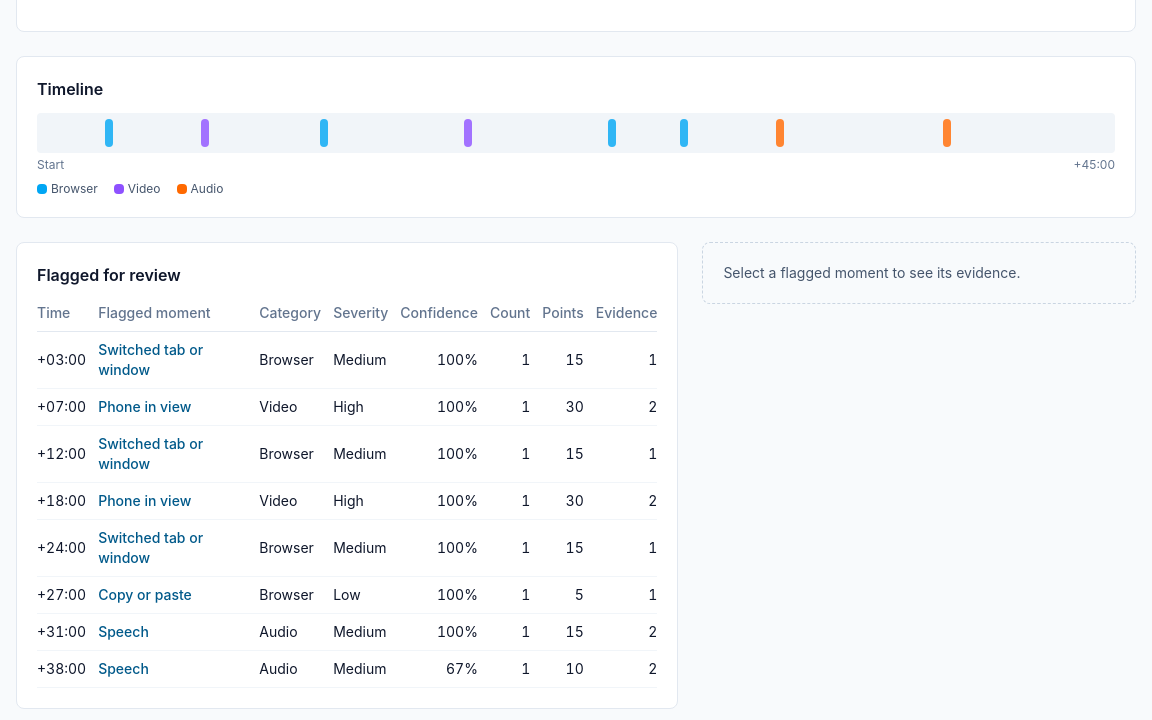
report: trace every point to a violation and its evidence › marks evidence that has not arrived yet
(page scrolled)
Click the row "+03:00 Switched tab or window Browser Medium 100% 1 15 1" at coordinates (347, 360), box [37, 332, 657, 388]
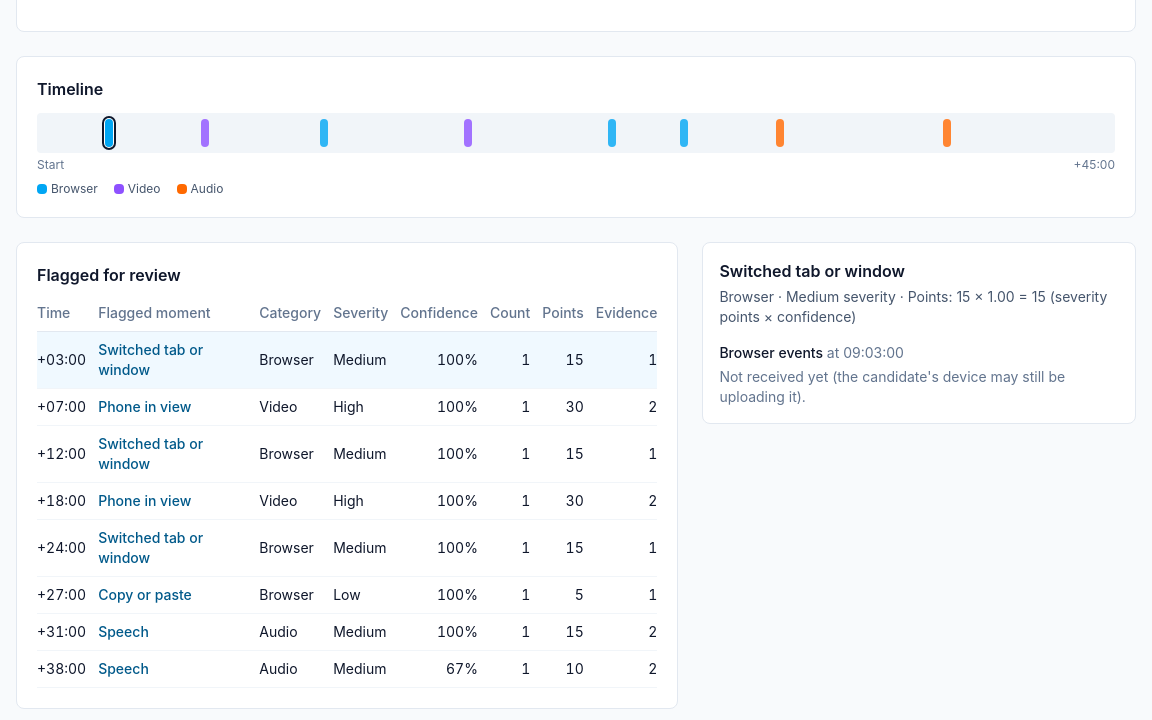
expect the element named "Evidence" shows "Not received yet": met, box [719, 368, 1065, 405]
